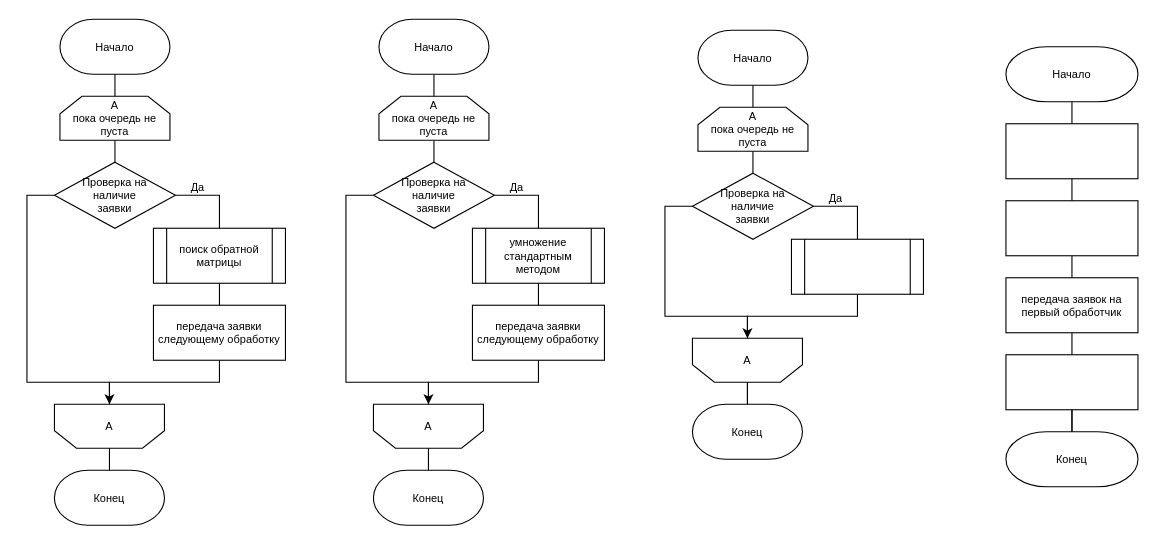
Image size: 1157x545. Some labels were removed from this diagram. Here are the shapes that lost their labels. From the top down, the centre of each, then its label:
pixel 1071 151: создание очередей
pixel 1071 228: запуск потоков
pixel 856 266: умножение алгоритмом Винограда
pixel 1071 382: ожидание окончания обработки всех заявок
